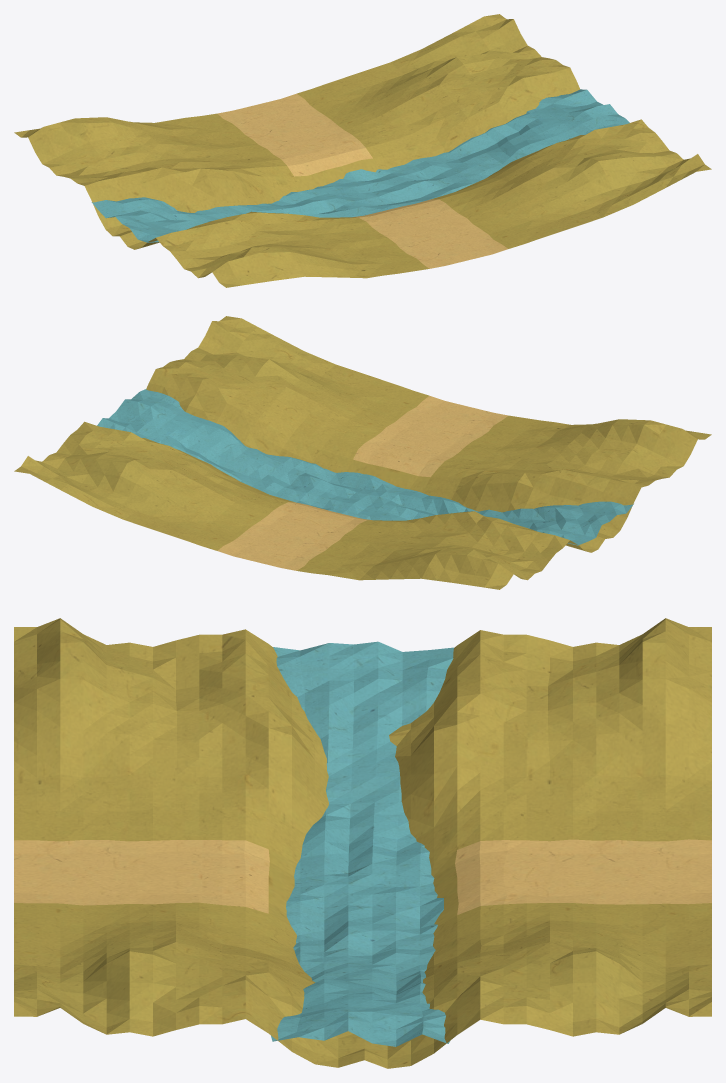
File: part_road_river.fbx
3 renders of one model, top to bottom at view 1: azimuth 30°, elevation 25°; view 2: azimuth 150°, elevation 25°; view 3: azimuth 270°, elevation 25°, orthographic. The views are drawn at different scales.
Parts seen in each view (by area): view 1: Landscape.004, Plane.001; view 2: Landscape.004, Plane.001; view 3: Landscape.004, Plane.001.
Boxes of the visible parts, left/top/right/bottom form: Landscape.004: left=14, top=14, right=711, bottom=287; Plane.001: left=91, top=89, right=629, bottom=242; Landscape.004: left=14, top=316, right=711, bottom=589; Plane.001: left=97, top=389, right=633, bottom=545; Landscape.004: left=14, top=618, right=711, bottom=1068; Plane.001: left=271, top=641, right=453, bottom=1046.
Size of the model in its own units: 535 by 79.95 by 402.
1 material, 1 textured.
